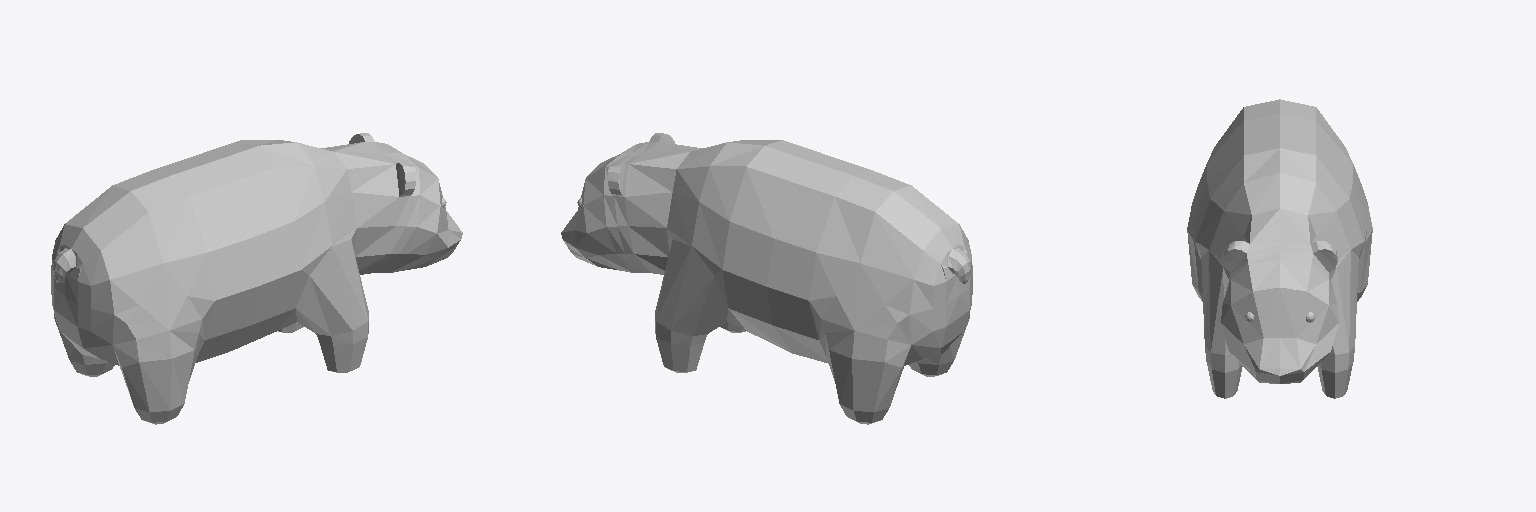
The model's file is Black bear.obj.
3 views of the same model, side by side, from view 1: azimuth 30°, elevation 25°; view 2: azimuth 150°, elevation 25°; view 3: azimuth 270°, elevation 25° (orthographic).
Visible parts, largest first — view 1: Plane; view 2: Plane; view 3: Plane.
Part boxes in pixels (x1,y1,x2,y2): Plane: (51, 133, 462, 424); Plane: (561, 133, 972, 424); Plane: (1187, 99, 1372, 398).
Bounding box in the file's own units: 1.28 × 0.6665 × 0.5122.